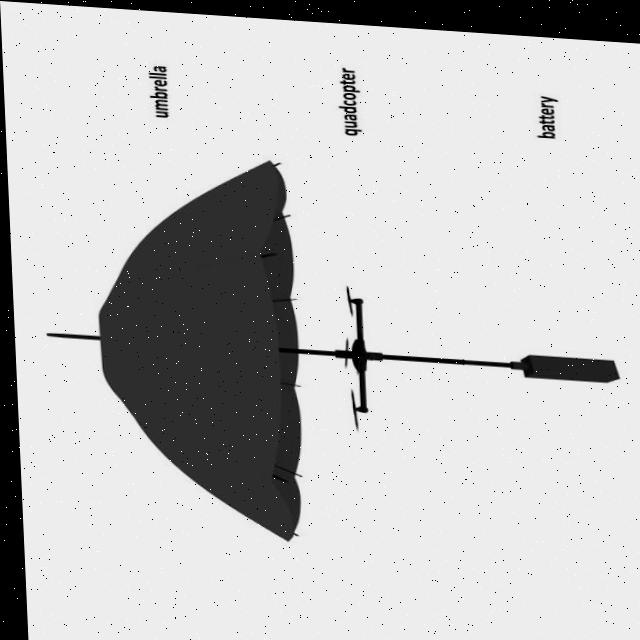drone: (324, 277, 378, 423)
